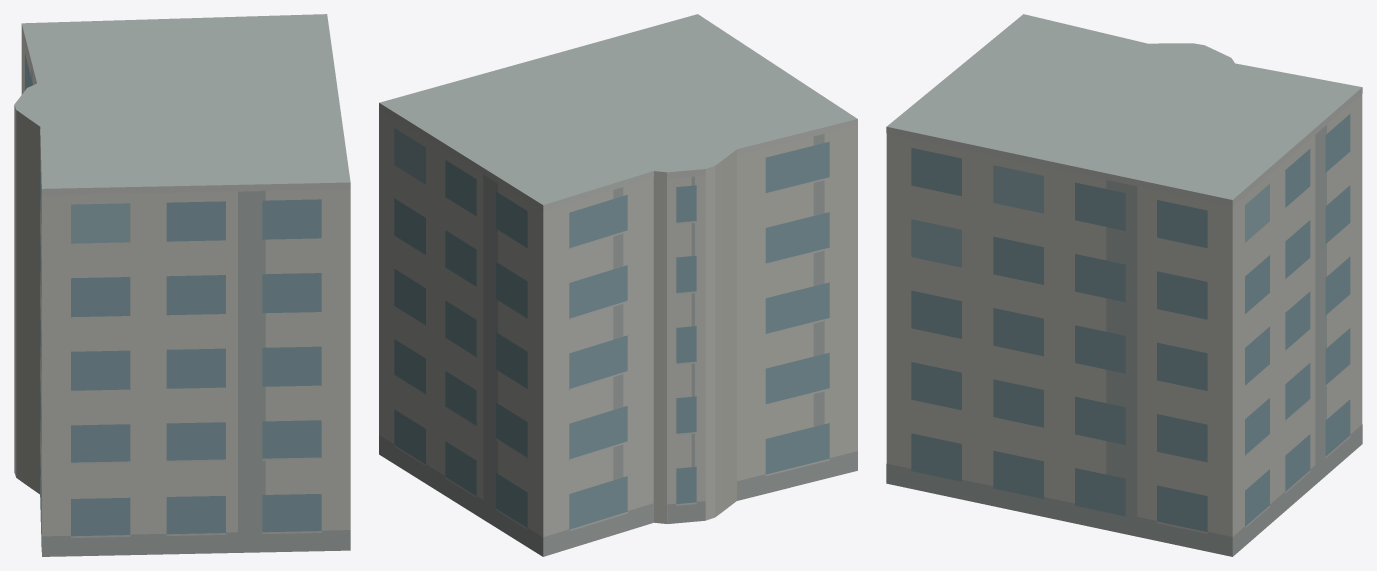
The model's file is survey-upis-33004838.glb.
3 renders of one model, left to right at view 1: azimuth 30°, elevation 25°; view 2: azimuth 150°, elevation 25°; view 3: azimuth 270°, elevation 25°, orthographic. The views are drawn at different scales.
Visible parts, largest first — view 1: survey-upis-33004838.tmp; view 2: survey-upis-33004838.tmp; view 3: survey-upis-33004838.tmp.
Part boxes in pixels (x1=…): survey-upis-33004838.tmp: x1=14, y1=14, x2=350, y2=556; survey-upis-33004838.tmp: x1=379, y1=14, x2=857, y2=556; survey-upis-33004838.tmp: x1=886, y1=14, x2=1362, y2=556.
Bounding box in the file's own units: 14.76 × 13.2 × 15.96.
